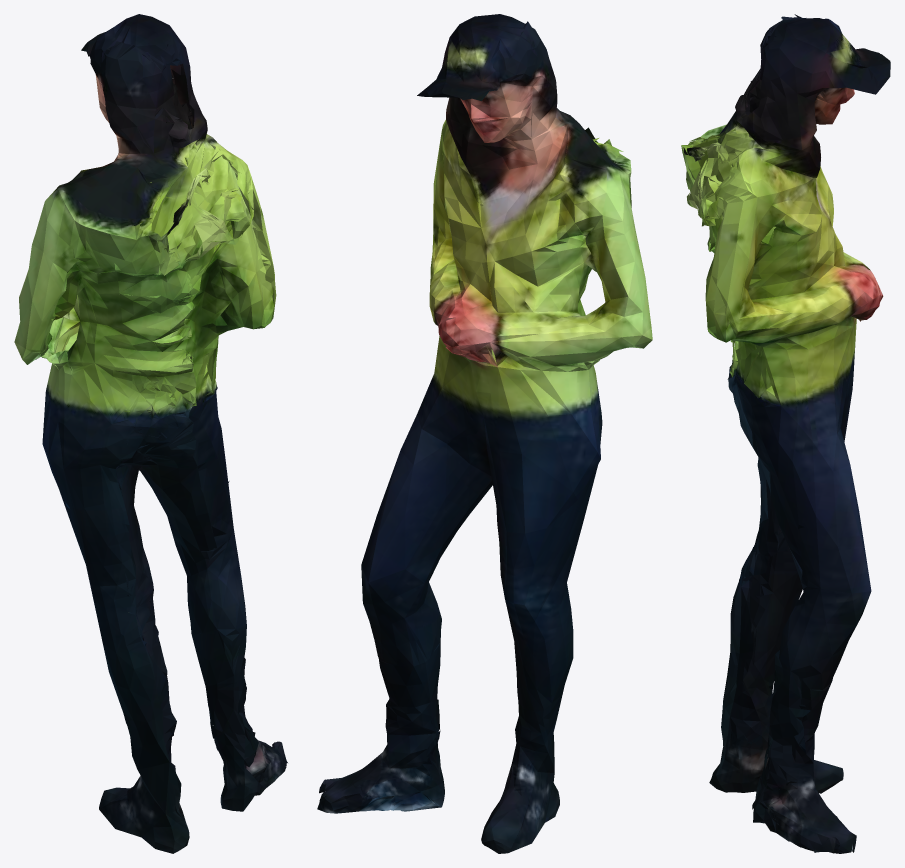
The picture shows the model from 3 angles, left to right: view 1: azimuth 30°, elevation 25°; view 2: azimuth 150°, elevation 25°; view 3: azimuth 270°, elevation 25°; orthographic projection. The views are drawn at different scales.
Parts seen in each view (by area): view 1: dec_0014; view 2: dec_0014; view 3: dec_0014.
Boxes of the visible parts, x1,y1,x2,y2 form: dec_0014: (14,14,287,853); dec_0014: (317,14,652,853); dec_0014: (681,14,890,853).
Size of the model in its own units: 0.6779 by 1.76 by 0.432.
1 material, 1 textured.
